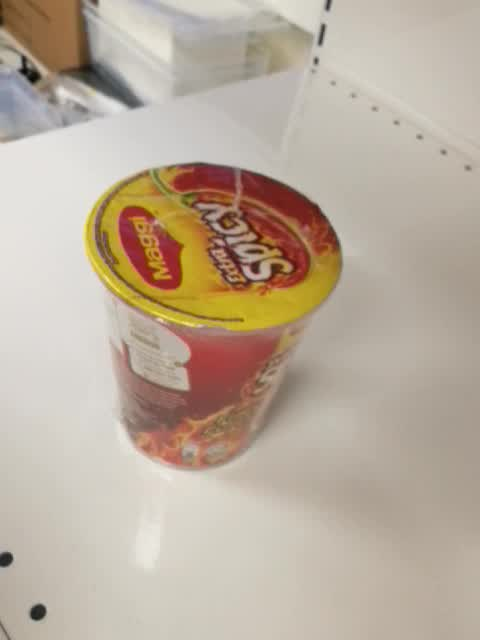maggi: (83, 160, 344, 471)
